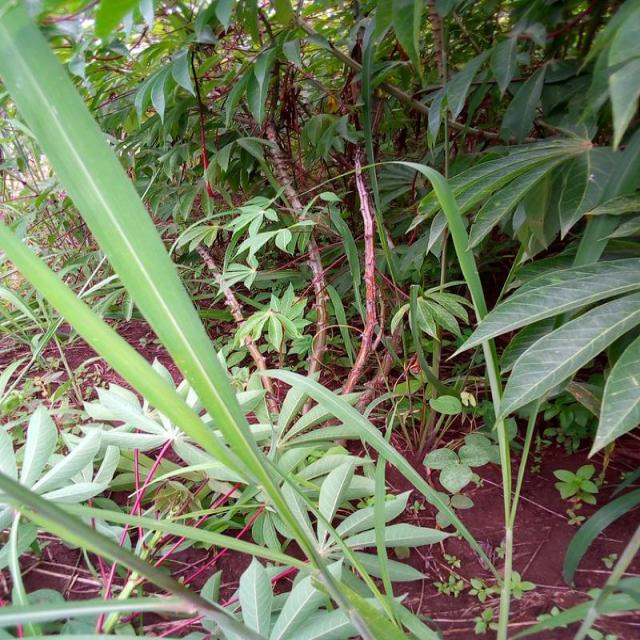cassava leaf: (0, 1, 485, 637)
